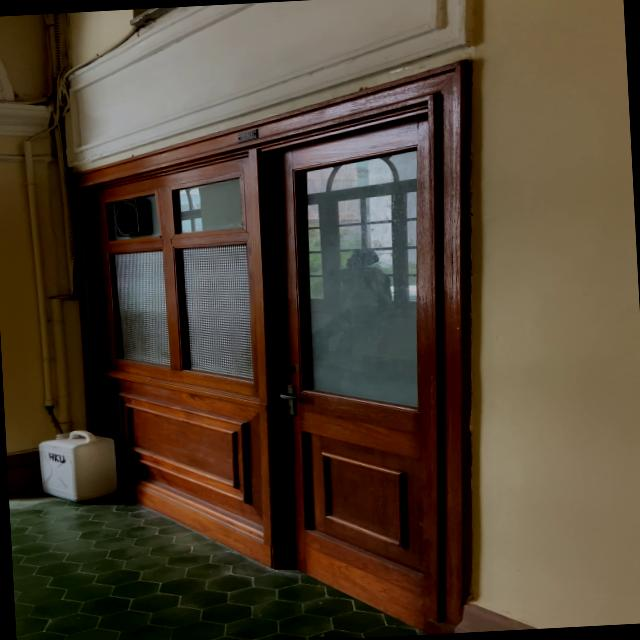room230: (236, 128, 261, 144)
